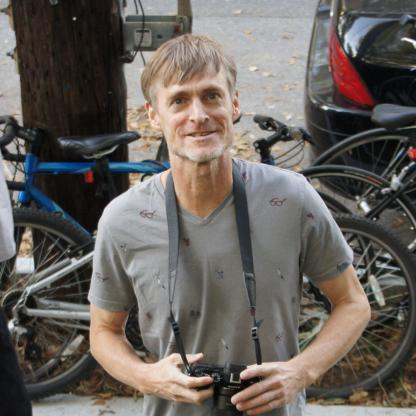Car: (303, 1, 416, 207)
